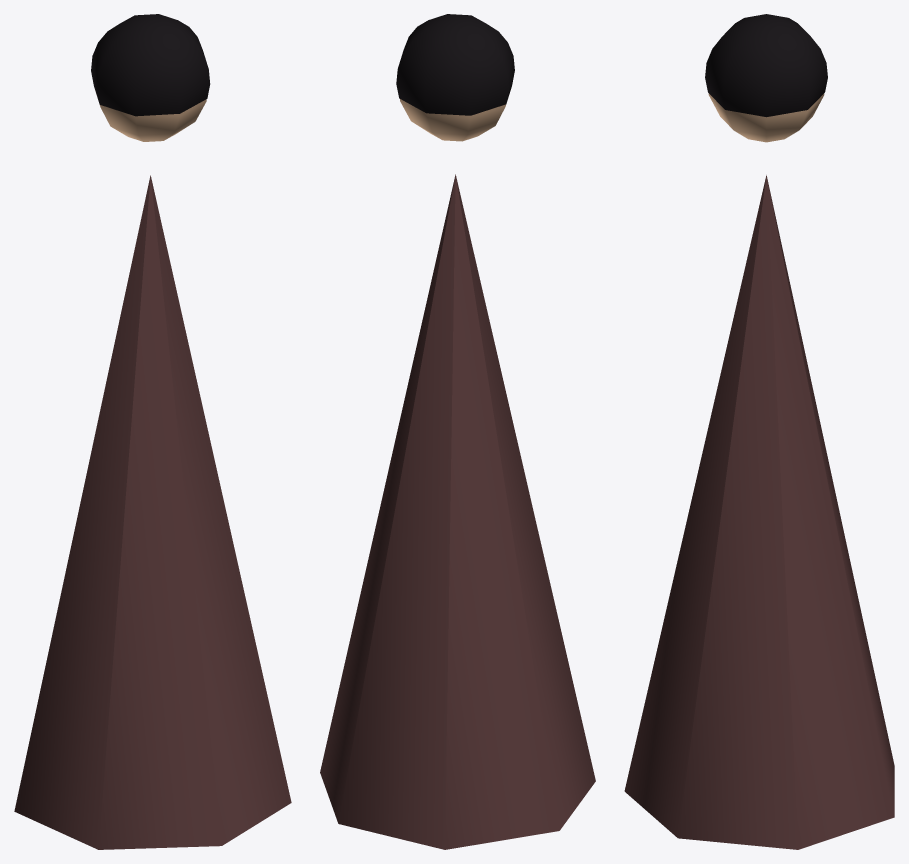
Rendered from villager_1.glb.
The picture shows the model from 3 angles, left to right: view 1: azimuth 30°, elevation 25°; view 2: azimuth 150°, elevation 25°; view 3: azimuth 270°, elevation 25°; orthographic projection.
Bounding box in the file's own units: 0.468 × 1.44 × 0.4562.
